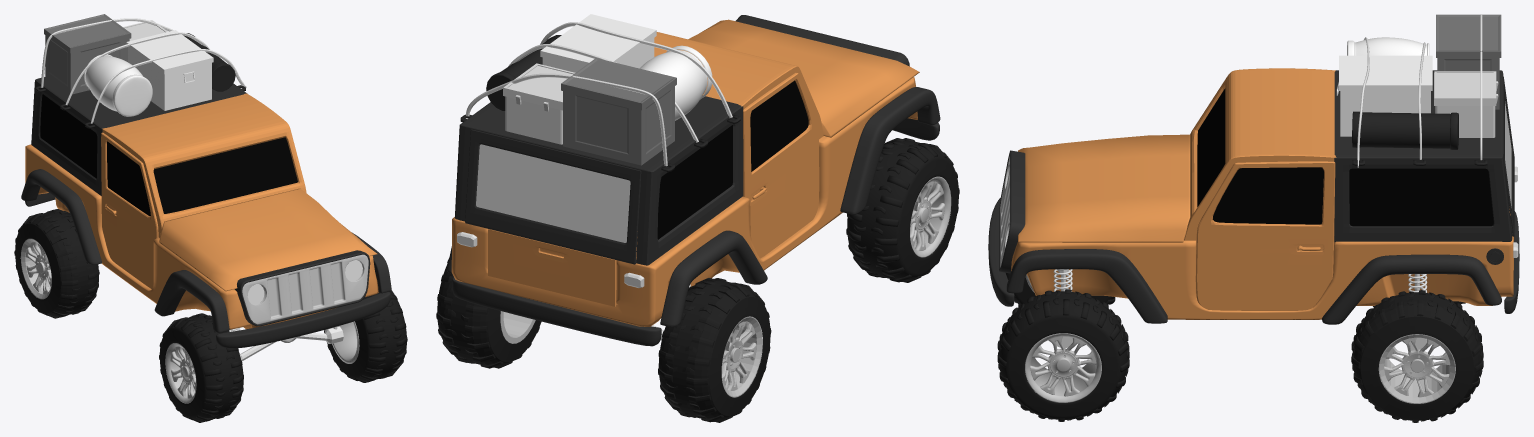
The model's file is jeepAnim.gltf.
The picture shows the model from 3 angles, left to right: view 1: azimuth 30°, elevation 25°; view 2: azimuth 150°, elevation 25°; view 3: azimuth 270°, elevation 25°; orthographic projection. The views are drawn at different scales.
Visible parts, largest first — view 1: Jeep.WindShild, Jeep.Bonnet, Jeep.FrontTires.002, Jeep.Canapy, Jeep.BackTires.002, Jeep.Grill, Jeep.Body, Jeep.Trim, Cube.002, Jeep.FrontDoor.001, Jeep.FrontTires.001, Cube.001 (+8 smaller); view 2: Jeep.BootTop, Jeep.Canapy, Jeep.Body, Jeep.BackTires.002, Jeep.FrontTires.002, Cube.001, Jeep.Bonnet, Jeep.FrontDoor.001, Jeep.Trim, Jeep.Boot.Bot, Jeep.BackTires.001, Jeep.WindShild (+10 smaller); view 3: Jeep.Canapy, Jeep.Bonnet, Jeep.Body, Jeep.WindShild, Jeep.FrontDoor.002, Jeep.FrontTires.001, Jeep.BackTires.001, Jeep.Trim, Jeep.FrontDoor, Cube.002, Cube.001, Cylinder (+9 smaller).
Boxes of the visible parts, <box> form: Jeep.WindShild: <box>102,93,306,237</box>; Jeep.Bonnet: <box>159,188,377,291</box>; Jeep.FrontTires.002: <box>159,313,243,422</box>; Jeep.Canapy: <box>31,76,247,195</box>; Jeep.BackTires.002: <box>14,209,99,318</box>; Jeep.Grill: <box>234,250,370,326</box>; Jeep.Body: <box>25,144,378,342</box>; Jeep.Trim: <box>21,169,391,332</box>; Cube.002: <box>126,30,213,110</box>; Jeep.FrontDoor.001: <box>101,132,158,288</box>; Jeep.FrontTires.001: <box>324,290,407,382</box>; Cube.001: <box>44,14,131,94</box>; Jeep.BootTop: <box>465,129,641,264</box>; Jeep.Canapy: <box>455,95,743,265</box>; Jeep.Body: <box>451,77,917,326</box>; Jeep.BackTires.002: <box>658,278,771,422</box>; Jeep.FrontTires.002: <box>846,138,959,282</box>; Cube.001: <box>561,58,676,165</box>; Jeep.Bonnet: <box>688,19,919,137</box>; Jeep.FrontDoor.001: <box>743,72,819,258</box>; Jeep.Trim: <box>447,87,940,326</box>; Jeep.Boot.Bot: <box>488,229,616,306</box>; Jeep.BackTires.001: <box>436,258,541,368</box>; Jeep.WindShild: <box>654,32,823,139</box>; Jeep.Canapy: <box>1334,70,1512,241</box>; Jeep.Bonnet: <box>1018,134,1190,242</box>; Jeep.Body: <box>1011,236,1513,319</box>; Jeep.WindShild: <box>1184,68,1336,240</box>; Jeep.FrontDoor.002: <box>1195,161,1335,310</box>; Jeep.FrontTires.001: <box>997,289,1129,421</box>; Jeep.BackTires.001: <box>1351,290,1483,422</box>; Jeep.Trim: <box>1006,249,1501,324</box>; Jeep.FrontDoor: <box>1212,167,1323,224</box>; Cube.002: <box>1336,55,1432,136</box>; Cube.001: <box>1436,14,1501,109</box>; Cylinder: <box>1352,111,1458,149</box>.
Bounding box in the file's own units: 4.57 × 5.37 × 8.16.
